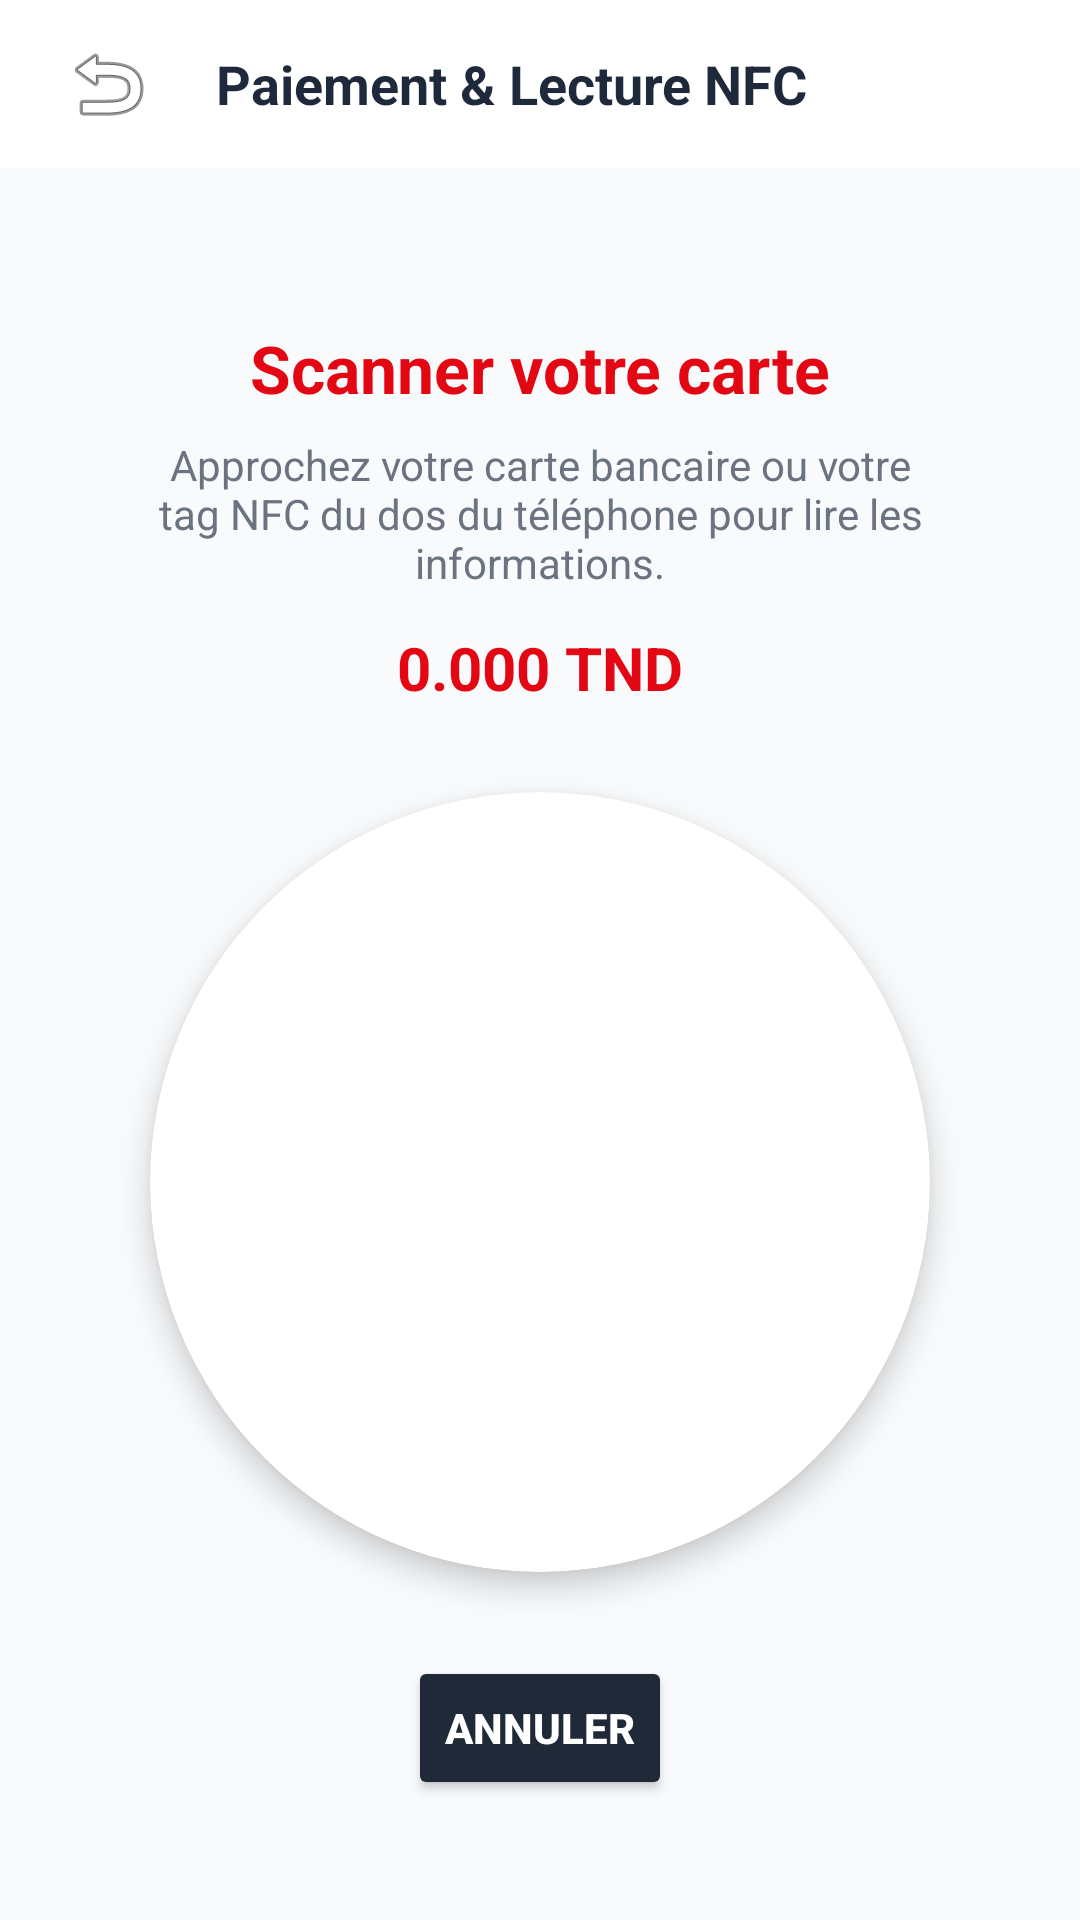

Locate icon controls on the screen. Image size 1080*1920, boxes as (x1, y1, x2, y2).
Retour: (75, 53, 144, 116)
